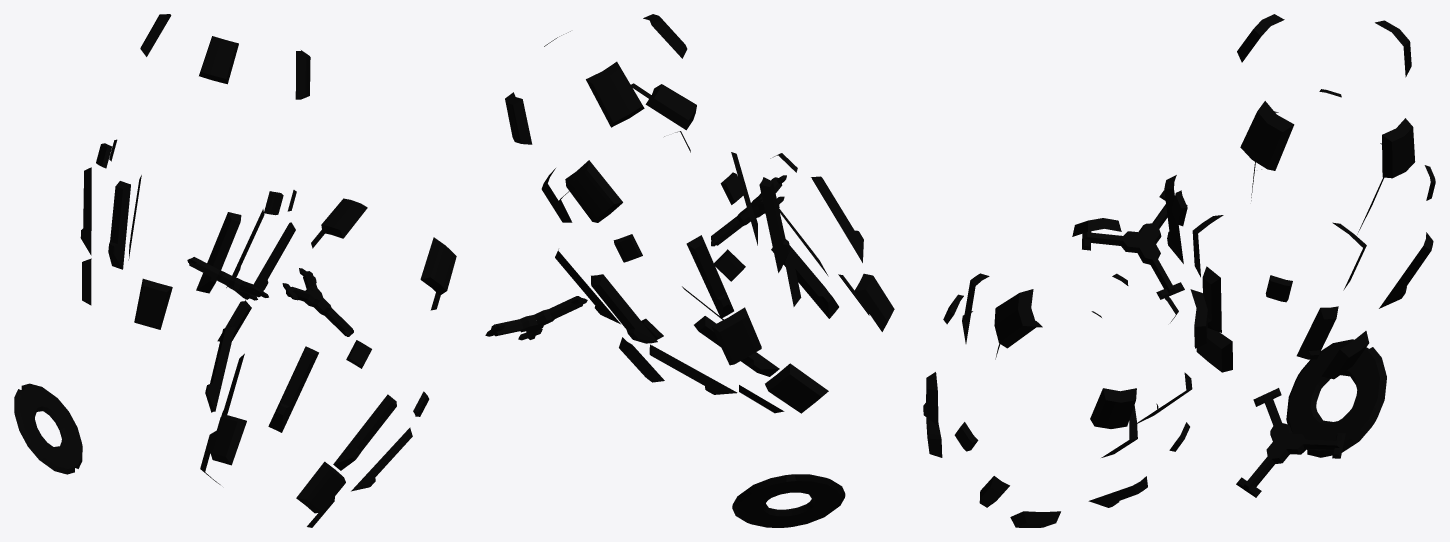
File: prop_static_yao_container_02_02_0.glb
3 renders of one model, left to right at view 1: azimuth 30°, elevation 25°; view 2: azimuth 150°, elevation 25°; view 3: azimuth 270°, elevation 25°, orthographic. The views are drawn at different scales.
Visible parts, largest first — view 1: yao_container_02_02_LOD0; view 2: yao_container_02_02_LOD0; view 3: yao_container_02_02_LOD0.
Part boxes in pixels (x1,y1,x2,y2): yao_container_02_02_LOD0: (14,14,456,527); yao_container_02_02_LOD0: (485,14,894,527); yao_container_02_02_LOD0: (923,14,1435,527).
Size of what is drawn, in the model's own units: 2.51 by 2.89 by 2.59.
1 material, 1 textured.
